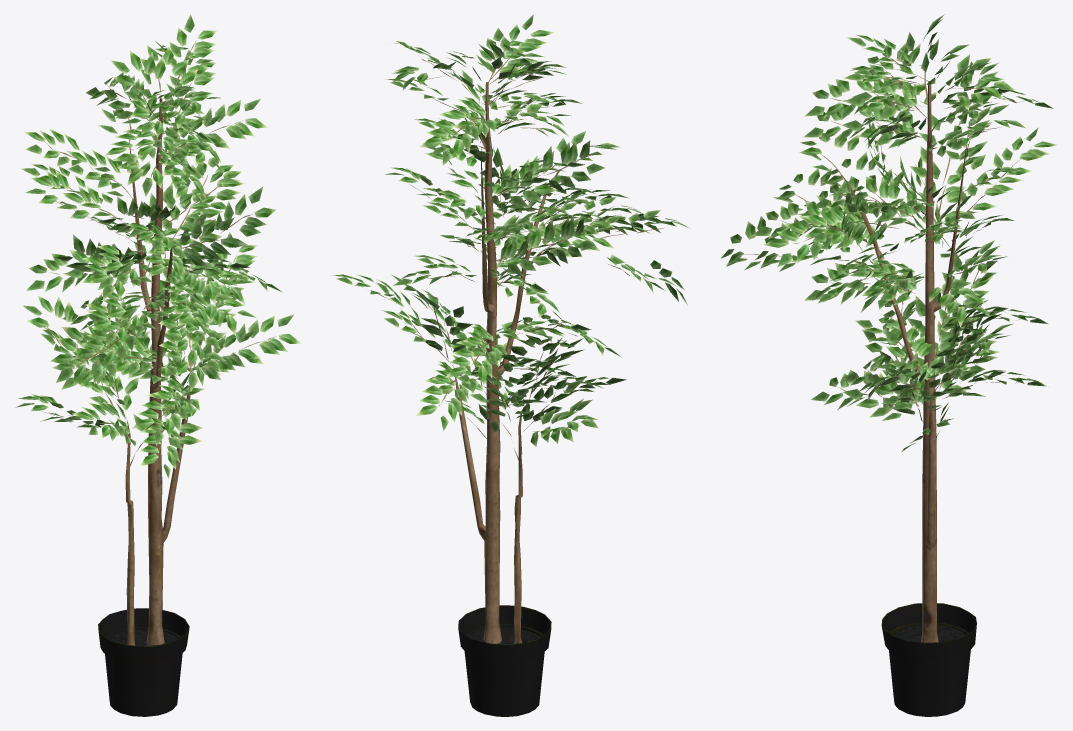
The model's file is fejka_sztuczna_roslina_doniczkowa_30615276.glb.
3 views of the same model, side by side, from view 1: azimuth 30°, elevation 25°; view 2: azimuth 150°, elevation 25°; view 3: azimuth 270°, elevation 25° (orthographic). The views are drawn at different scales.
Visible parts, largest first — view 1: fejka_sztuczna_roslina_doniczkowa_30615276; view 2: fejka_sztuczna_roslina_doniczkowa_30615276; view 3: fejka_sztuczna_roslina_doniczkowa_30615276.
Boxes of the visible parts, <box> form: fejka_sztuczna_roslina_doniczkowa_30615276: <box>15,14,301,716</box>; fejka_sztuczna_roslina_doniczkowa_30615276: <box>331,14,690,716</box>; fejka_sztuczna_roslina_doniczkowa_30615276: <box>721,14,1057,716</box>.
Bounding box in the file's own units: 0.7312 × 1.64 × 0.7392.
Materials: 1 (1 with a texture image).
